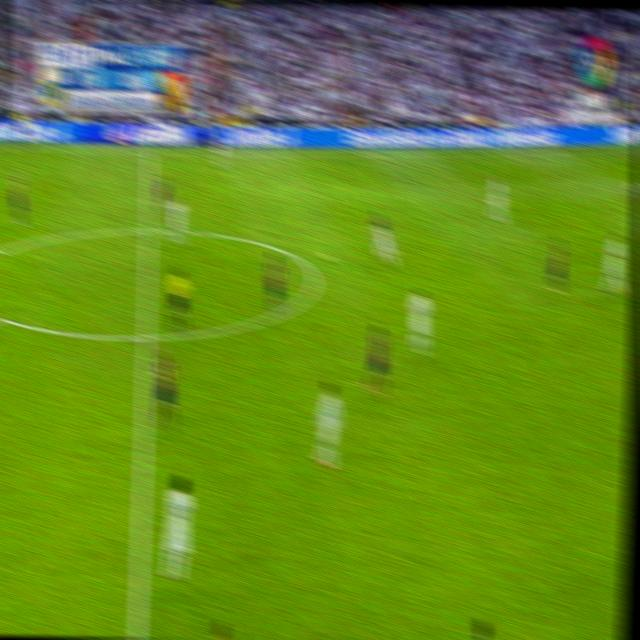bigarea_top_inner: (625, 175, 639, 193)
halfcircle_bottom: (135, 320, 156, 352)
halfcircle_top: (138, 217, 157, 242)
midline_top_intersection: (141, 145, 157, 160)
